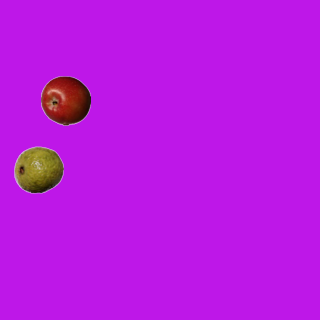Apple Braeburn: (40, 75, 90, 125)
Guava: (13, 144, 63, 194)
